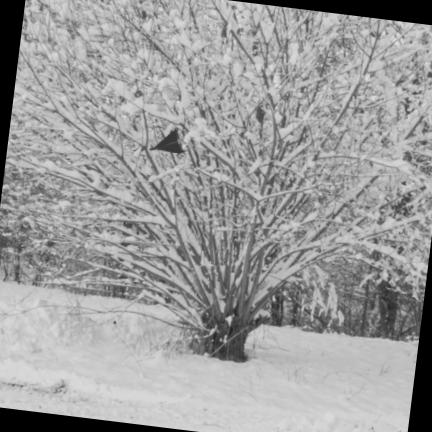Shahed: (149, 128, 183, 153)
